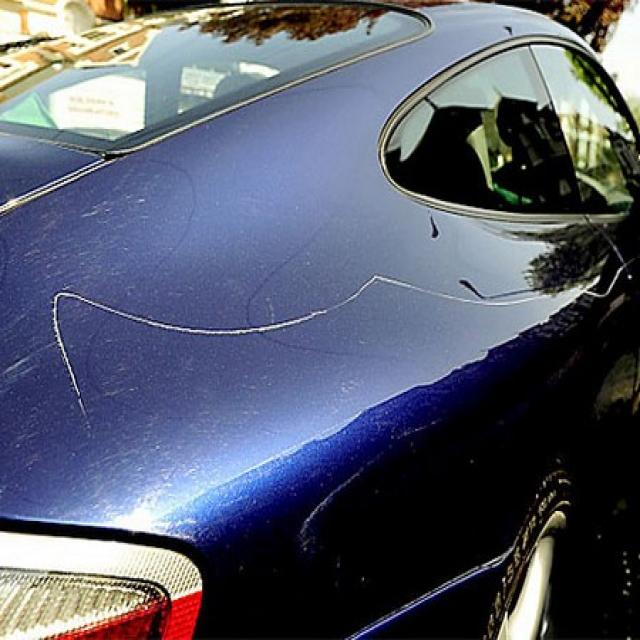scratch: (48, 271, 553, 425), (298, 413, 446, 557)
